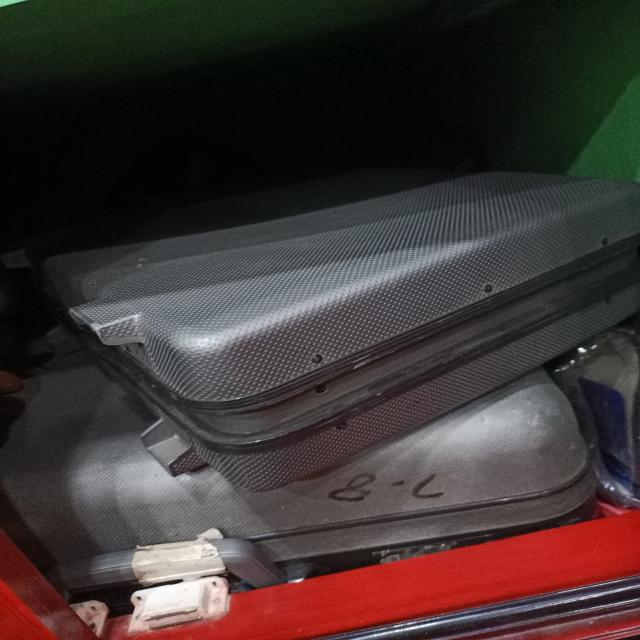suitcaserotation: (0, 153, 640, 497), (0, 324, 607, 611)
